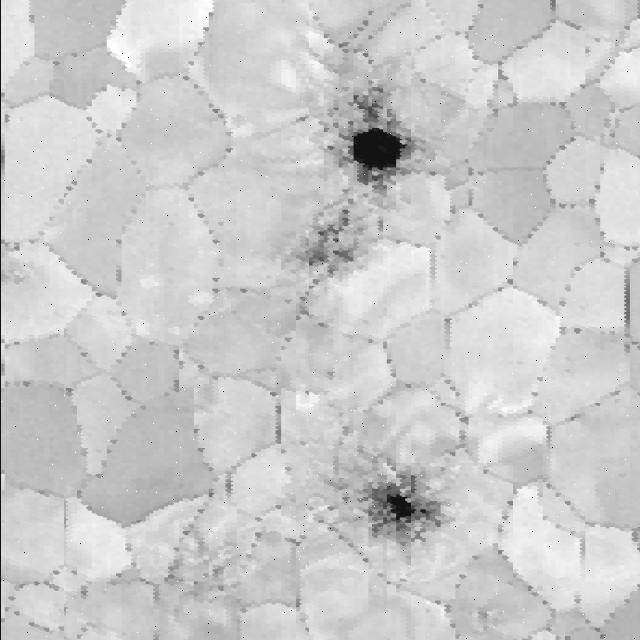good_void: (319, 87, 423, 200), (347, 460, 441, 560), (171, 529, 264, 604), (288, 213, 357, 269), (473, 604, 503, 624), (320, 361, 342, 384)
